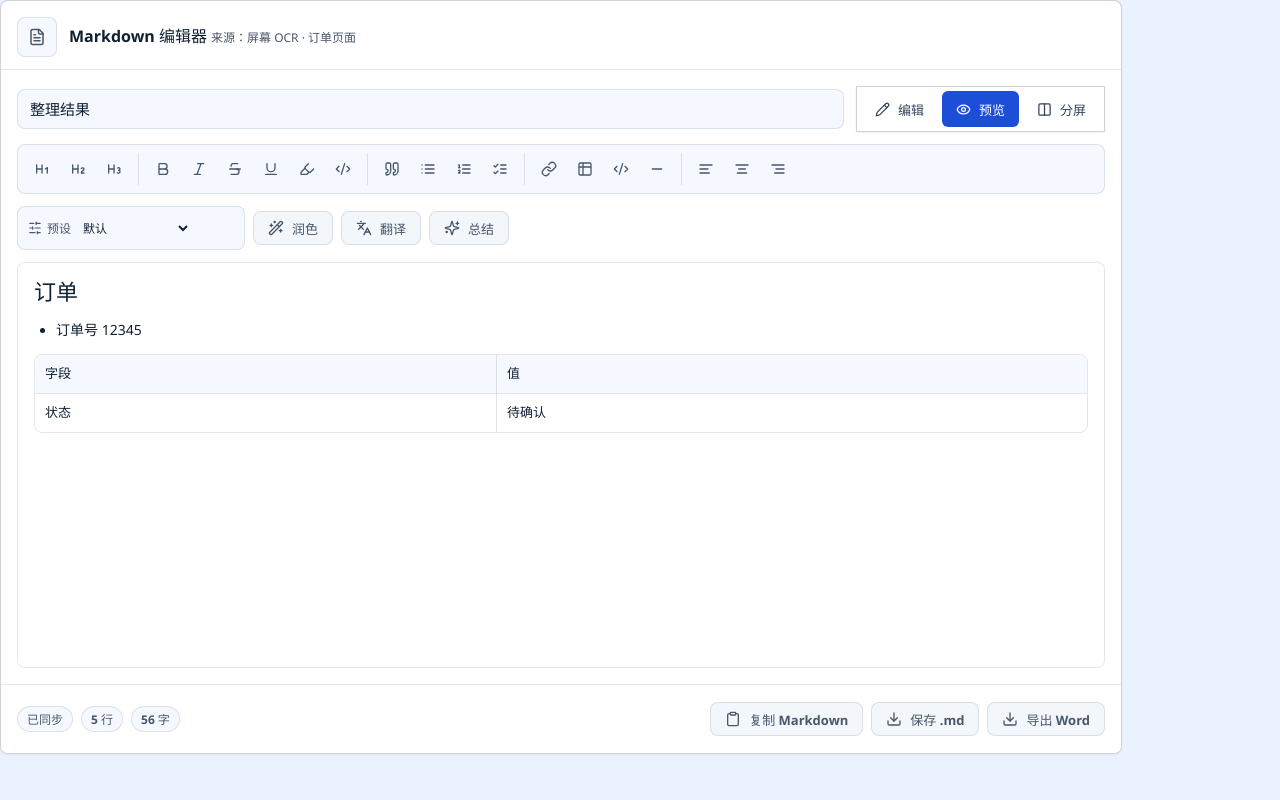
Scenario: MarkdownEditorShell › marks title changes dirty and reports the draft update
The image size is (1280, 800).
Replace the text in the field named "文稿标题" with "新标题". click: (430, 109)
box: [17,89,844,129]
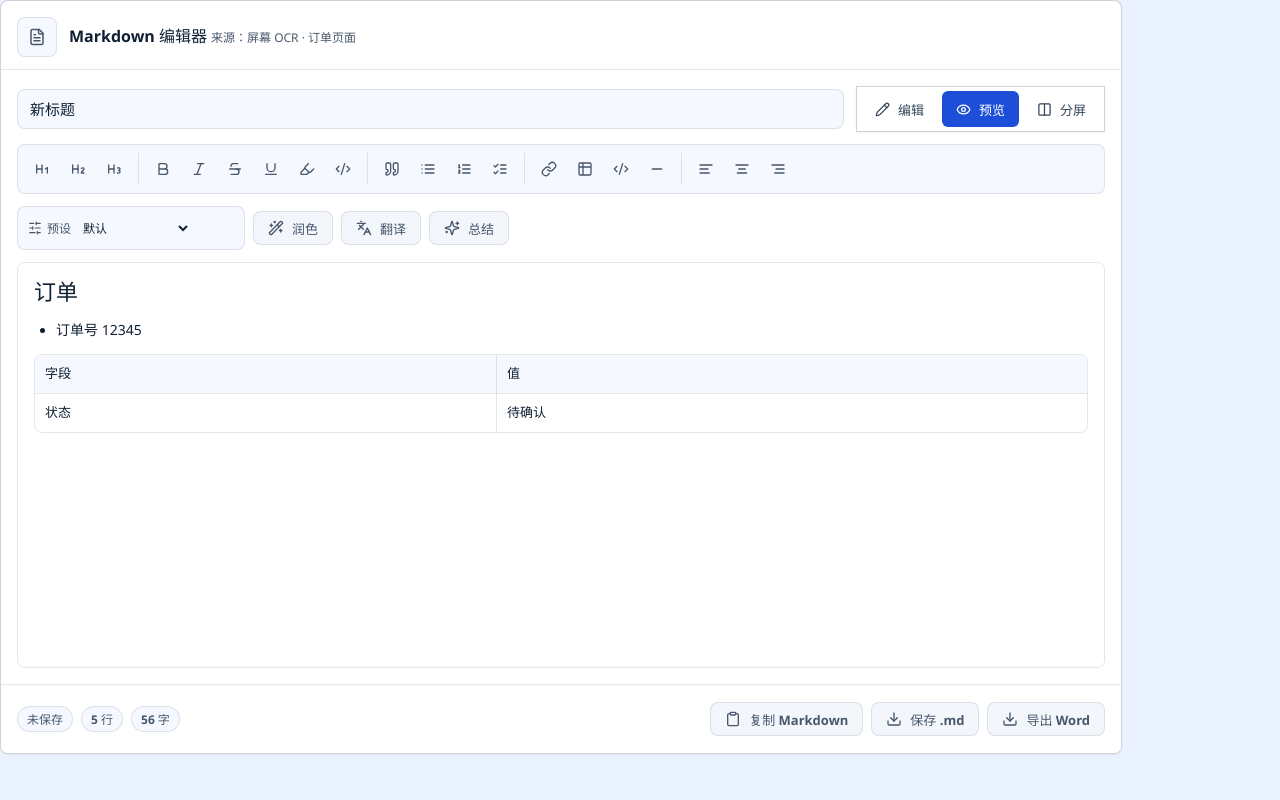
Expected: the text "未保存" is shown, [17,706,73,732]
